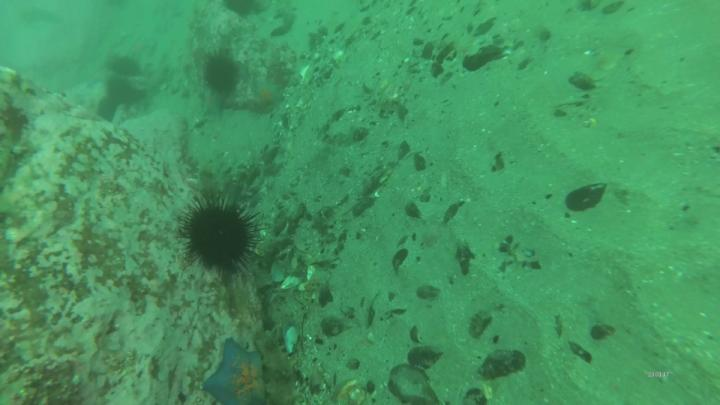echinus: (187, 209, 250, 267), (204, 54, 240, 93), (105, 79, 135, 108), (111, 55, 142, 76)
starfish: (203, 339, 266, 405), (254, 82, 285, 107)
